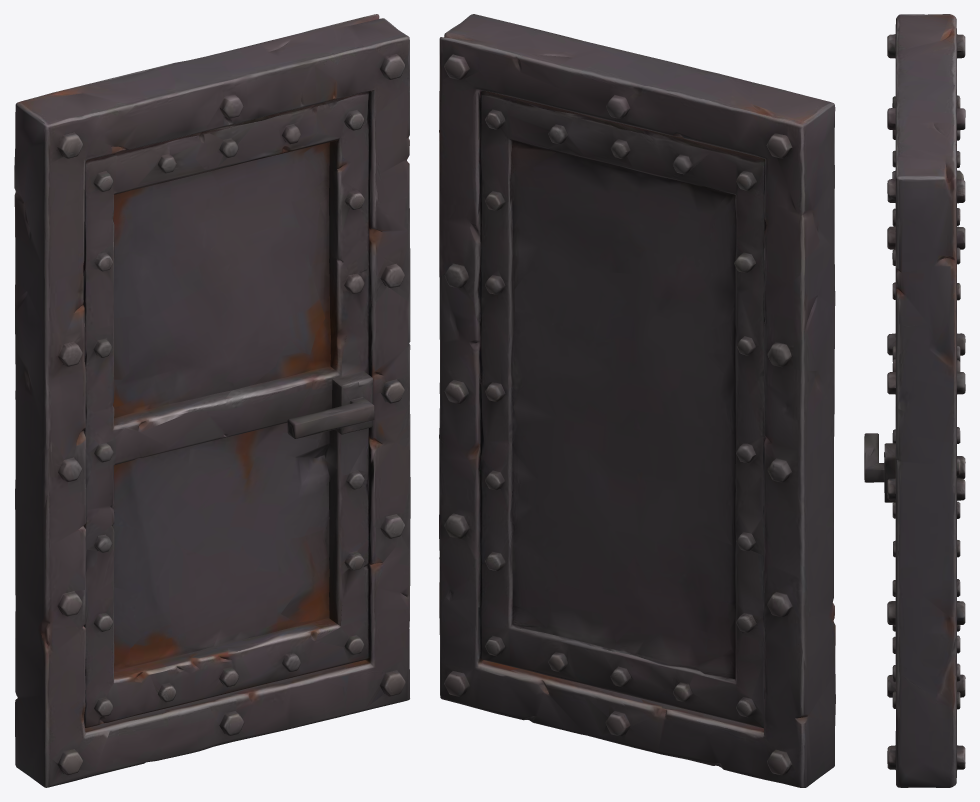
File: door_metal_stalnaya.glb
The picture shows the model from 3 angles, left to right: view 1: azimuth 30°, elevation 25°; view 2: azimuth 150°, elevation 25°; view 3: azimuth 270°, elevation 25°; orthographic projection. The views are drawn at different scales.
Parts seen in each view (by area): view 1: door; view 2: door; view 3: door.
Part boxes in pixels (x1=…): door: x1=14, y1=14, x2=410, y2=787; door: x1=439, y1=14, x2=835, y2=787; door: x1=864, y1=14, x2=965, y2=787.
Bounding box in the file's own units: 1.15 × 2 × 0.3011.
Materials: 1 (1 with a texture image).
